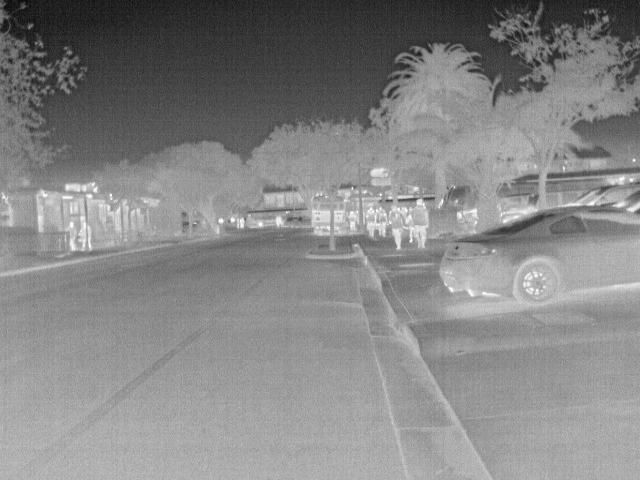car: (436, 205, 635, 304), (570, 182, 635, 207), (499, 194, 537, 224), (544, 188, 591, 207), (453, 206, 479, 234), (497, 192, 530, 211)
person: (386, 204, 407, 252), (411, 199, 431, 248), (63, 220, 80, 252), (402, 205, 416, 243), (78, 218, 93, 252), (376, 205, 389, 238), (364, 206, 377, 238), (347, 209, 359, 233), (238, 216, 246, 228)
